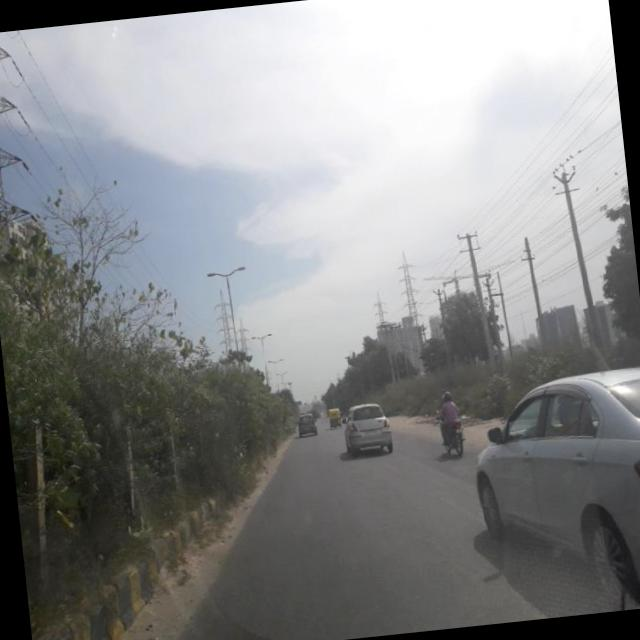crack: (195, 468, 503, 634)
